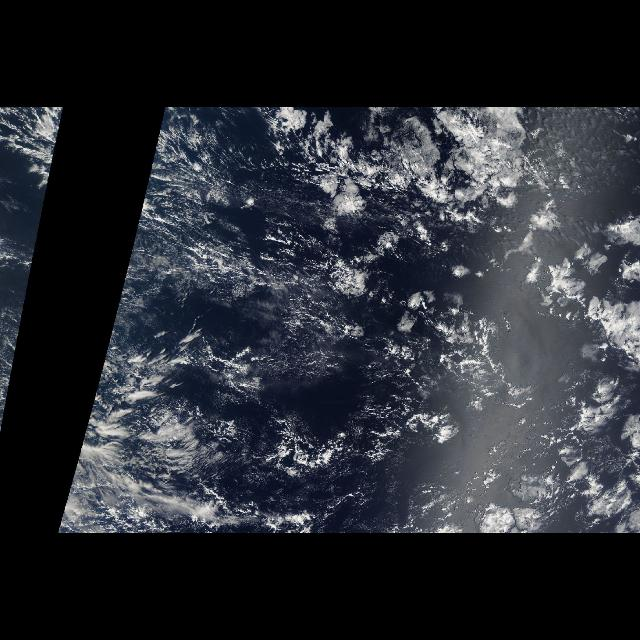Flower: (391, 189, 639, 333), (473, 370, 639, 526)
Gravel: (271, 308, 525, 470)
Sugar: (165, 118, 262, 328), (276, 250, 344, 380)
